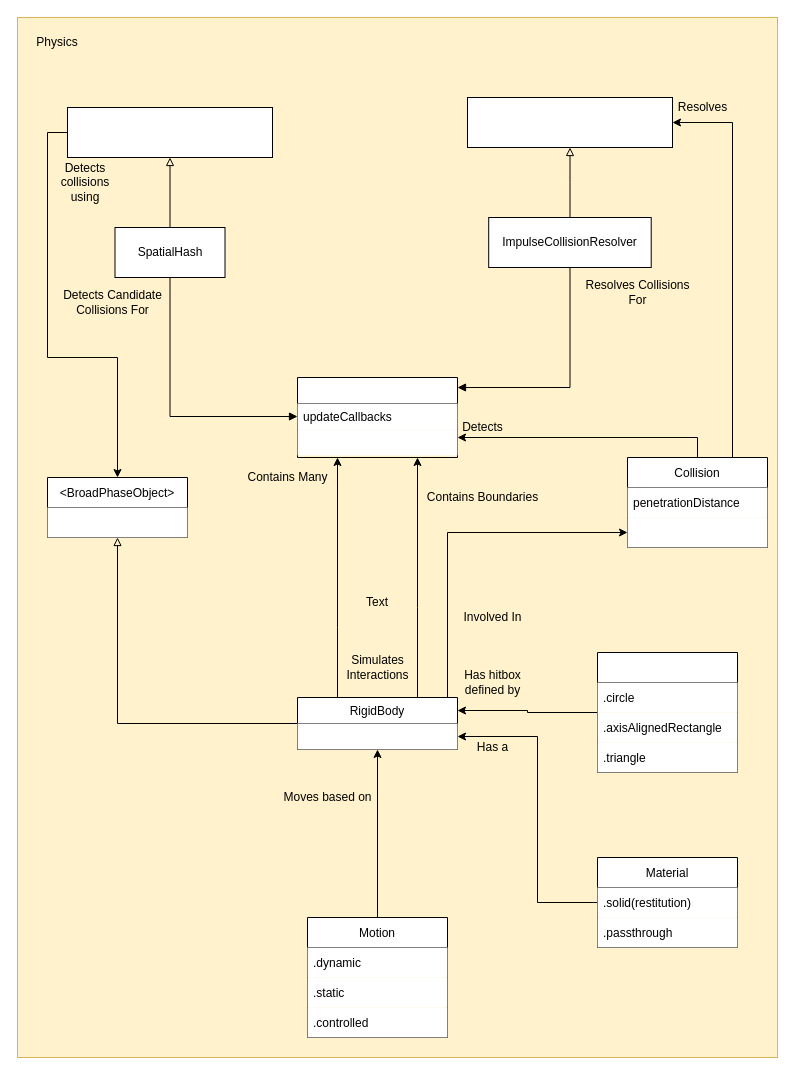
Some shapes in this 795 by 1075 pixel diagram are drawn without their labels. Here are the shapes that lost their labels. From the top down, the box of each, then its label:
(66, 106, 272, 158): <BroadPhaseCollisionDetector>
(466, 96, 672, 148): <CollisionResolver>
(296, 376, 458, 458): World
(297, 429, 457, 455): collisionCallbacks
(47, 507, 187, 537): BoundingBox
(627, 517, 767, 547): penetrationNormal
(596, 652, 738, 772): Geometry
(297, 723, 457, 749): id
